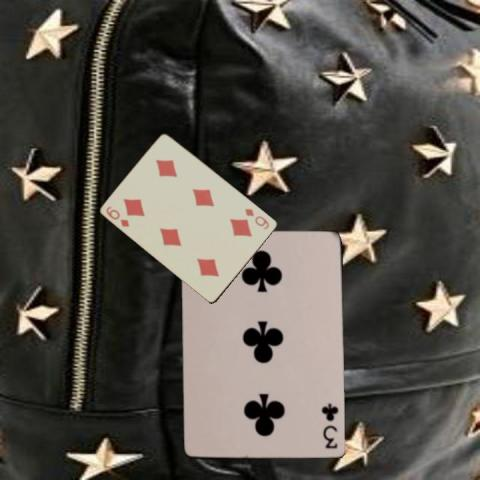3c: (319, 401, 340, 450)
6d: (242, 205, 271, 231), (103, 203, 131, 229)
